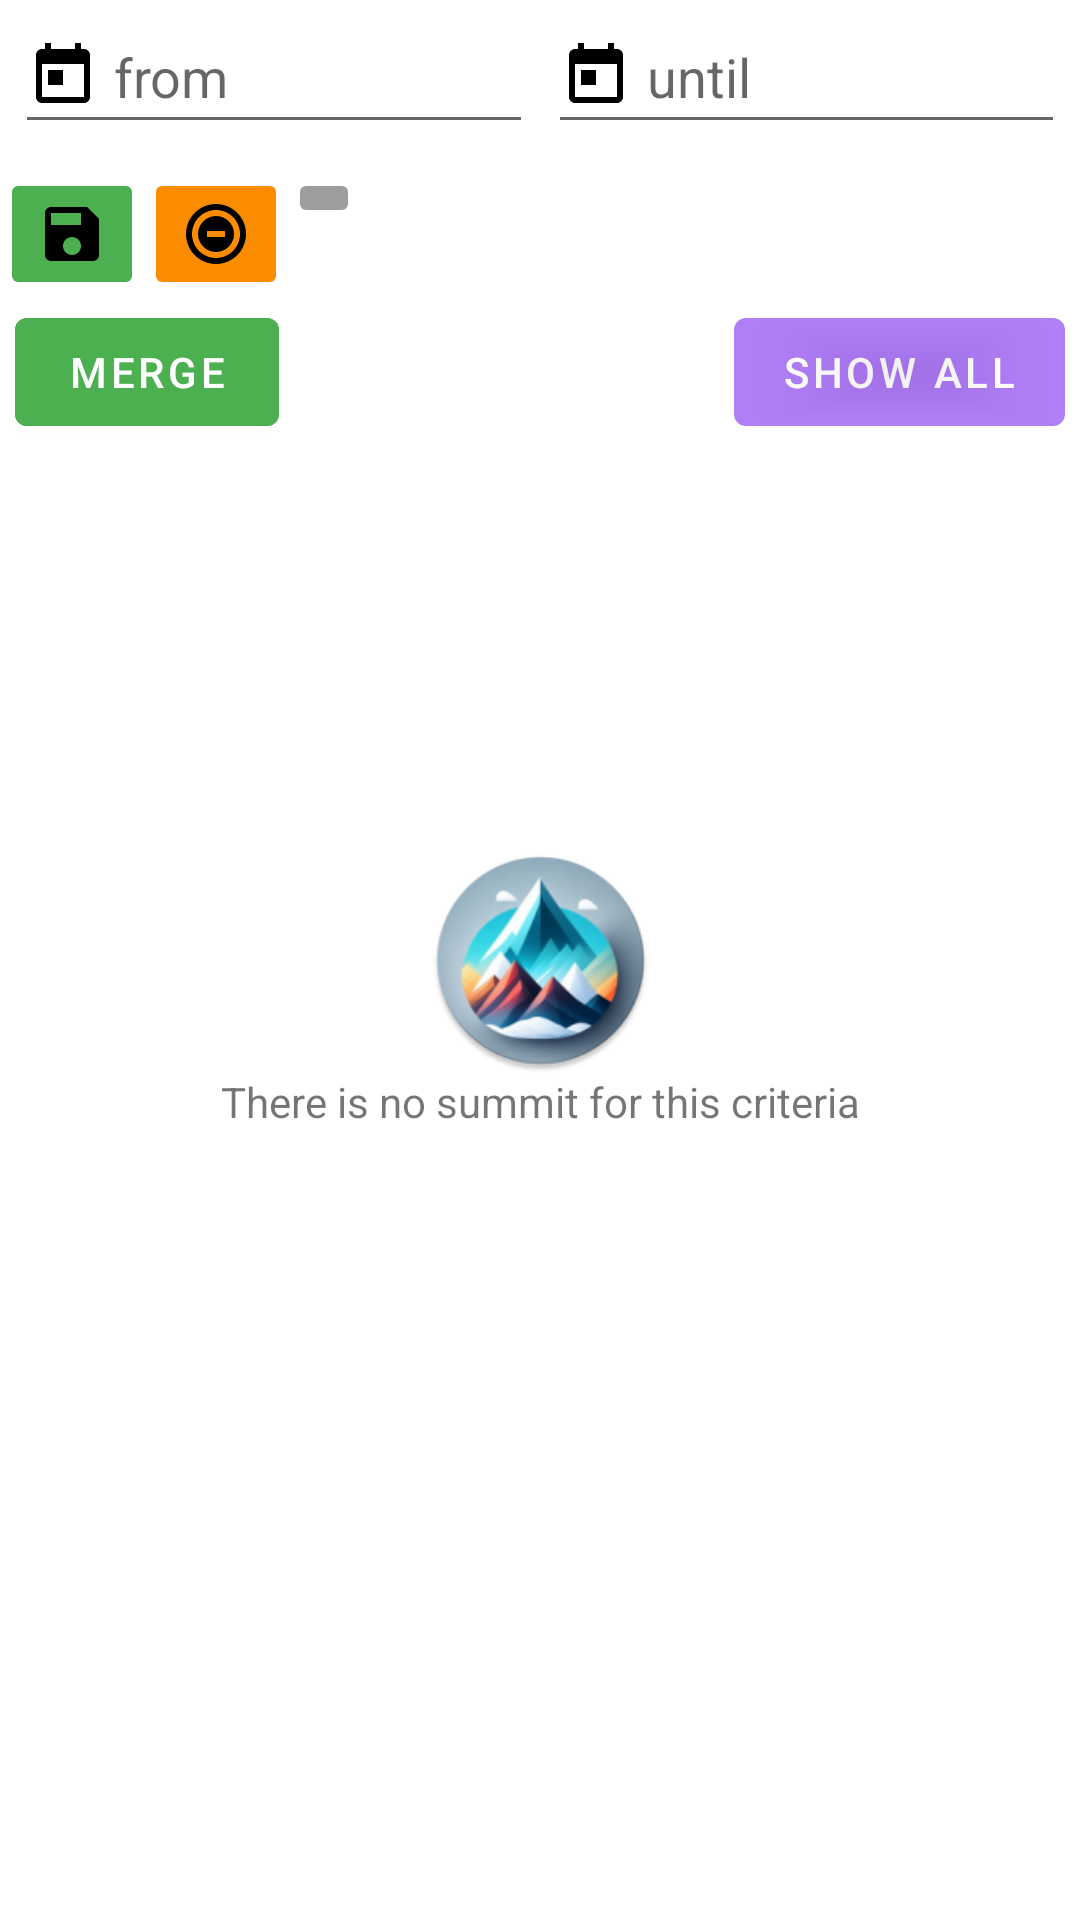

Named icons in this screenshot (1080w x 1920h) and their bounding boxes, rect(x1, y1, x2, y2):
Ignore: rect(156, 186, 276, 282)
Save: rect(12, 186, 132, 282)
